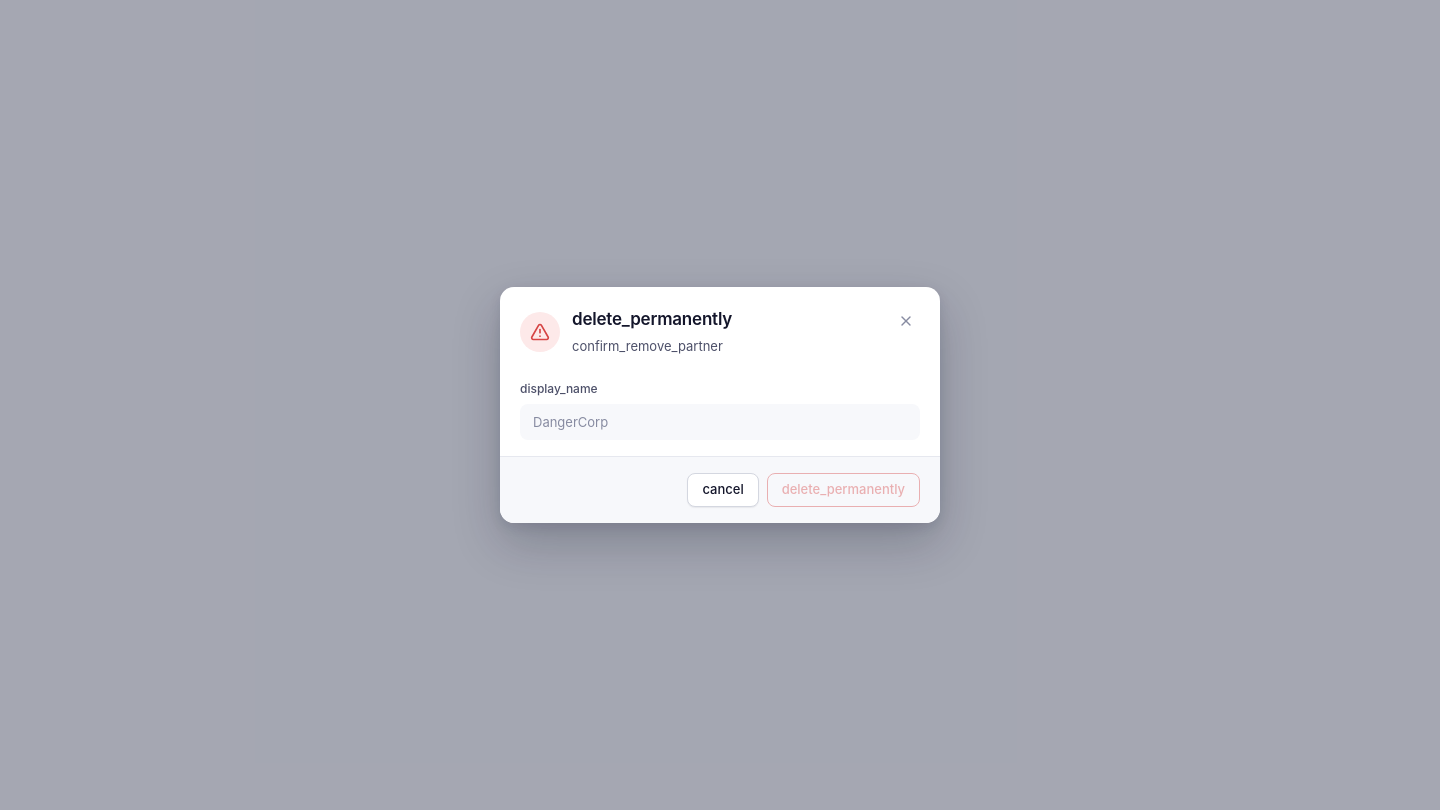
Test case: DeletePartnerModal › disables delete button until name is typed correctly
This screenshot has width=1440, height=810.
Expected: the button "delete_permanently" is disabled, [767, 473, 920, 507]
Type "WrongName" into the field with placeholder "DangerCorp" at (720, 422), box [520, 404, 920, 440]
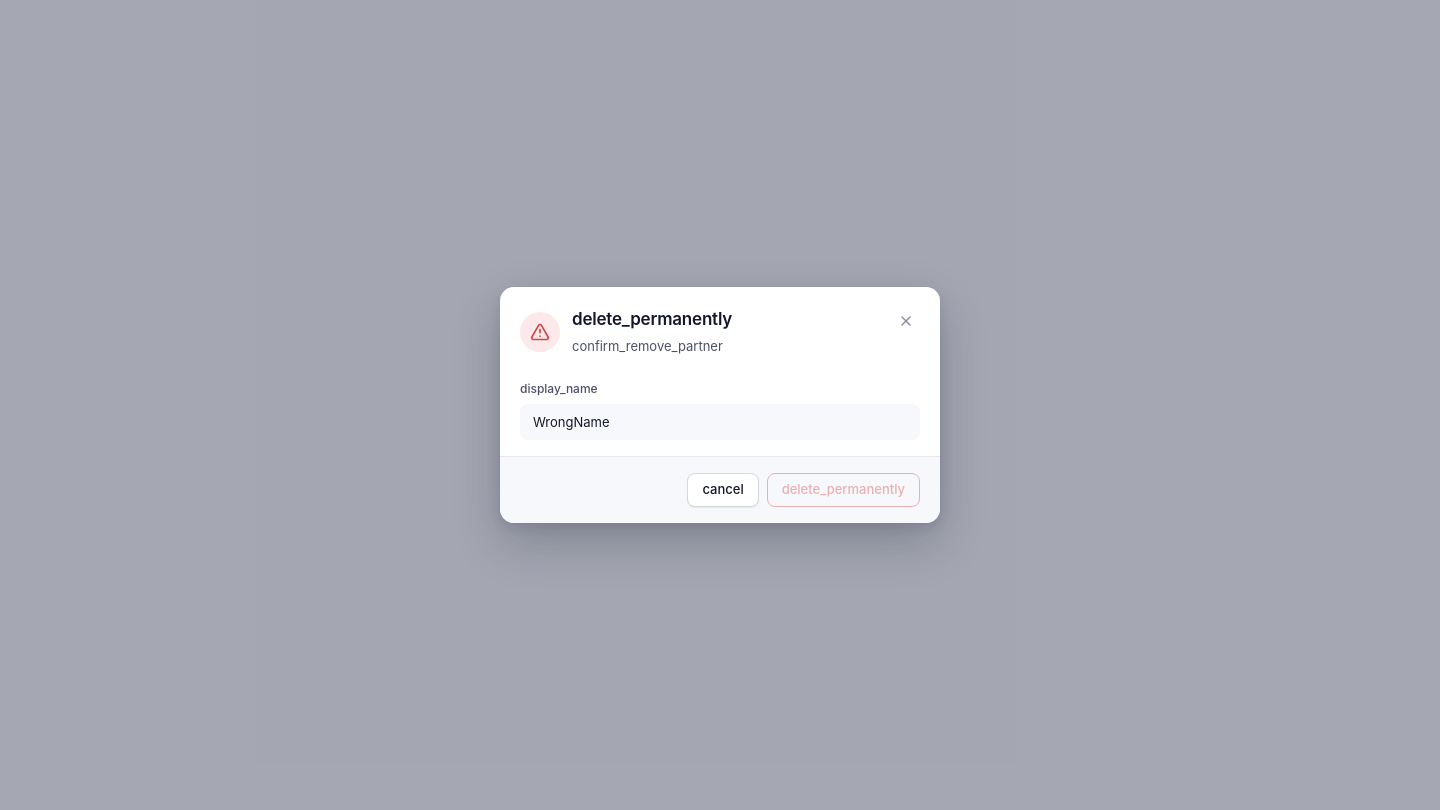
Expected: the button "delete_permanently" is disabled, [767, 473, 920, 507]
Replace the text in the field with placeholder "DangerCorp" with "DangerCorp" at (720, 422), box [520, 404, 920, 440]
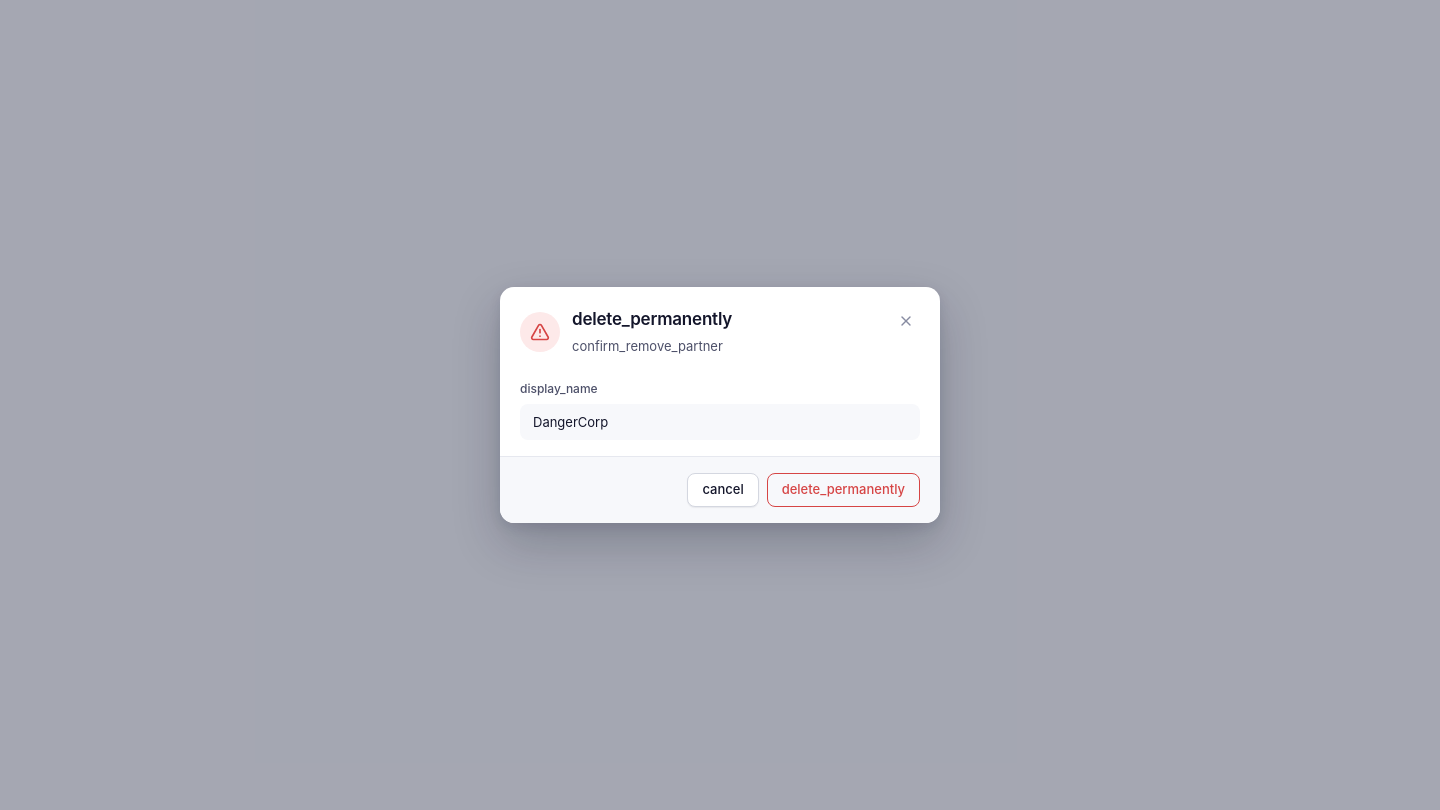
Now the button "delete_permanently" is enabled, box [767, 473, 920, 507]
